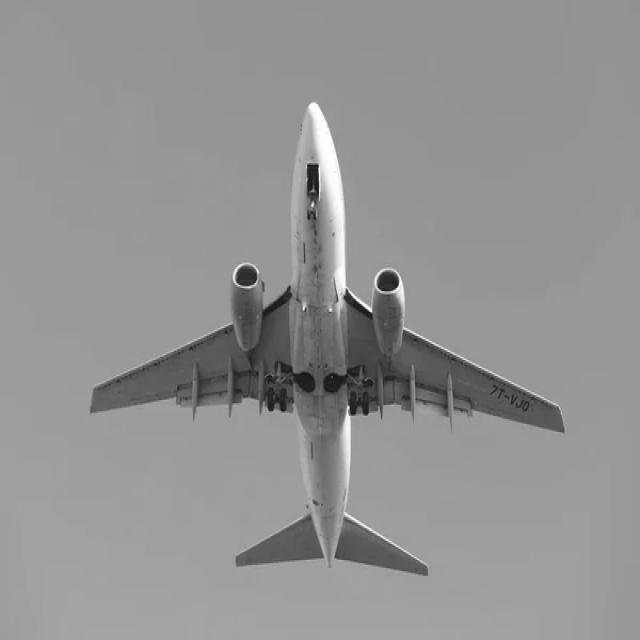Aircraft: (89, 88, 566, 578)
